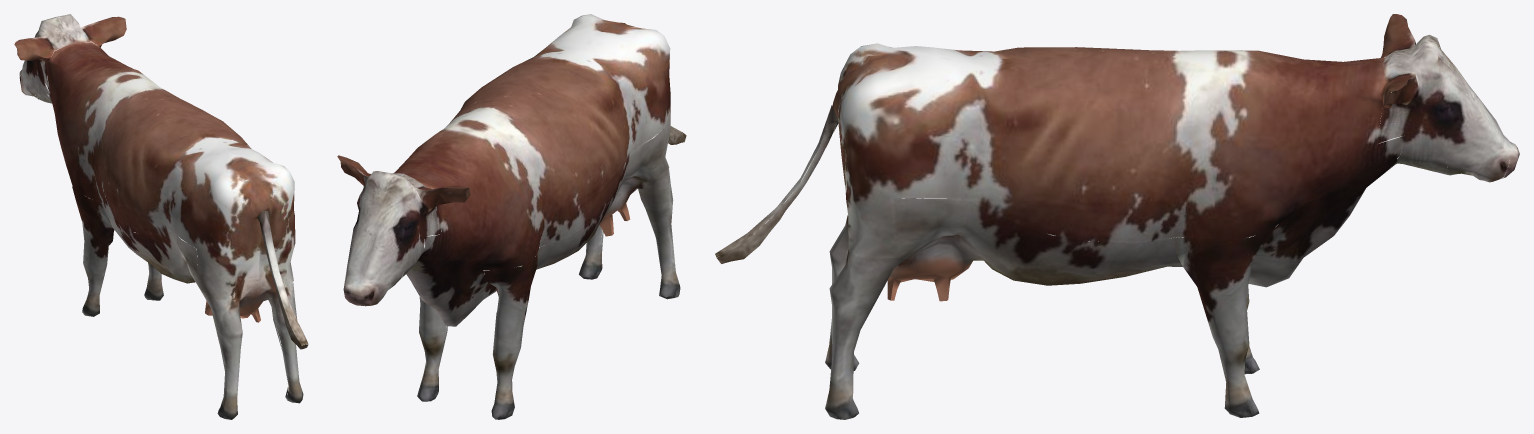
The model's file is cow_red_hi.glb.
3 renders of one model, left to right at view 1: azimuth 30°, elevation 25°; view 2: azimuth 150°, elevation 25°; view 3: azimuth 270°, elevation 25°, orthographic. The views are drawn at different scales.
Parts seen in each view (by area): view 1: cow_red_hi; view 2: cow_red_hi; view 3: cow_red_hi.
Part boxes in pixels (x1,y1,x2,y2): cow_red_hi: [14, 14, 308, 419]; cow_red_hi: [337, 14, 686, 419]; cow_red_hi: [715, 14, 1519, 419].
Bounding box in the file's own units: 0.7128 × 1.38 × 2.87.
Materials: 1 (1 with a texture image).
